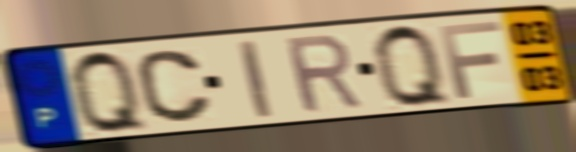C: (133, 47, 216, 126)
F: (436, 18, 506, 101)
I: (234, 37, 277, 122)
Q: (369, 20, 457, 111), (66, 46, 154, 137)
R: (280, 31, 367, 117)
